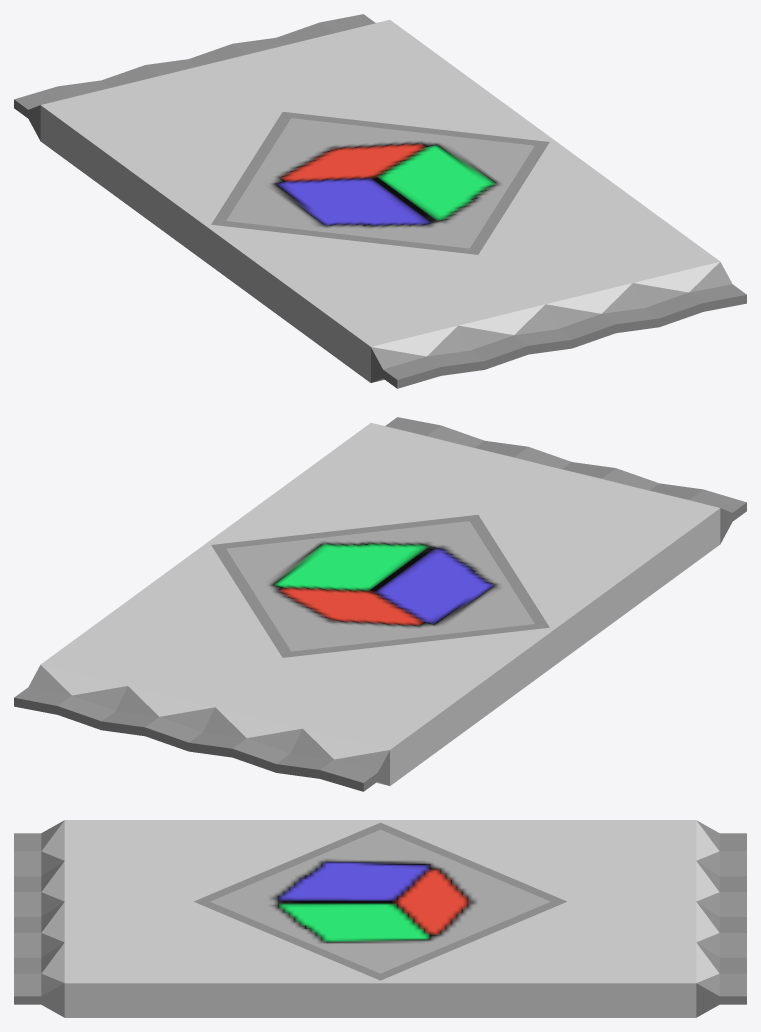
File: CardPack_Neutral.fbx
3 renders of one model, top to bottom at view 1: azimuth 30°, elevation 25°; view 2: azimuth 150°, elevation 25°; view 3: azimuth 270°, elevation 25°, orthographic. The views are drawn at different scales.
Parts seen in each view (by area): view 1: Neuteral; view 2: Neuteral; view 3: Neuteral.
Part boxes in pixels (left/top/right/bottom): Neuteral: left=14, top=14, right=746, bottom=388; Neuteral: left=14, top=417, right=746, bottom=791; Neuteral: left=14, top=820, right=746, bottom=1017.
Bounding box in the file's own units: 17.42 × 1.73 × 33.09.
